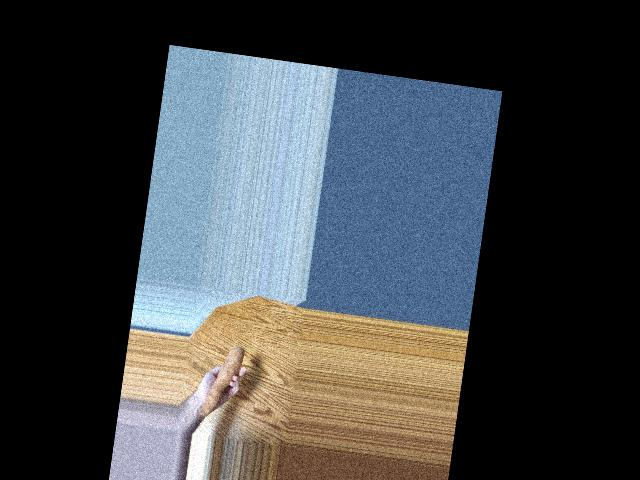sweet_potato: (198, 344, 240, 420)
